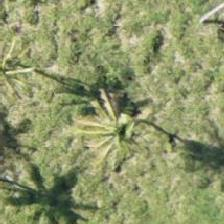coconut_tree: (78, 81, 168, 171)
